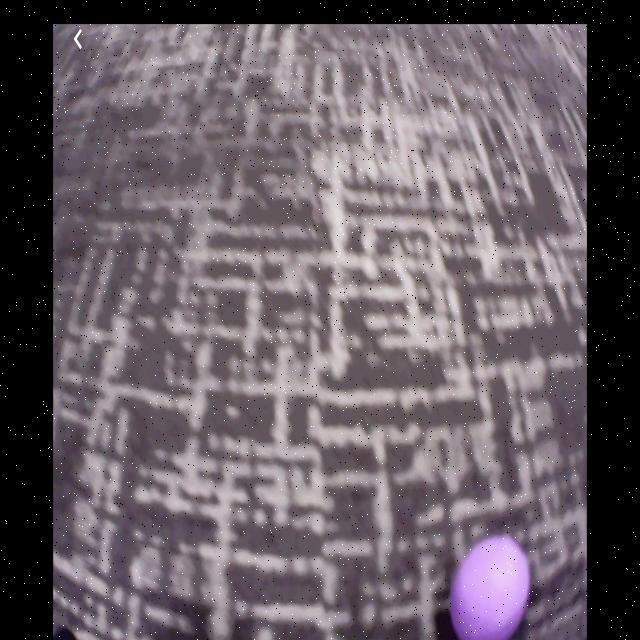ball: (451, 534, 531, 640)
